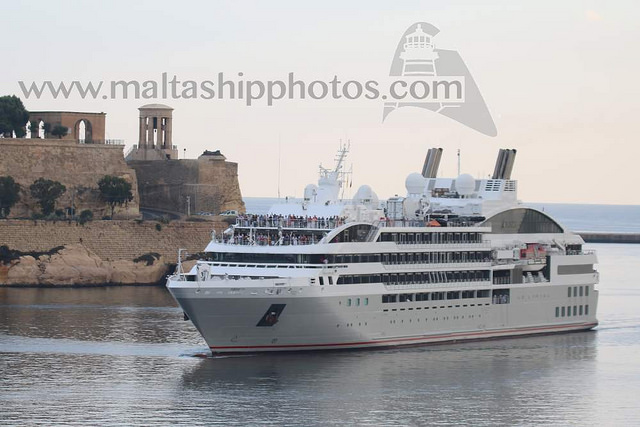cruise_ship: (162, 144, 608, 353)
